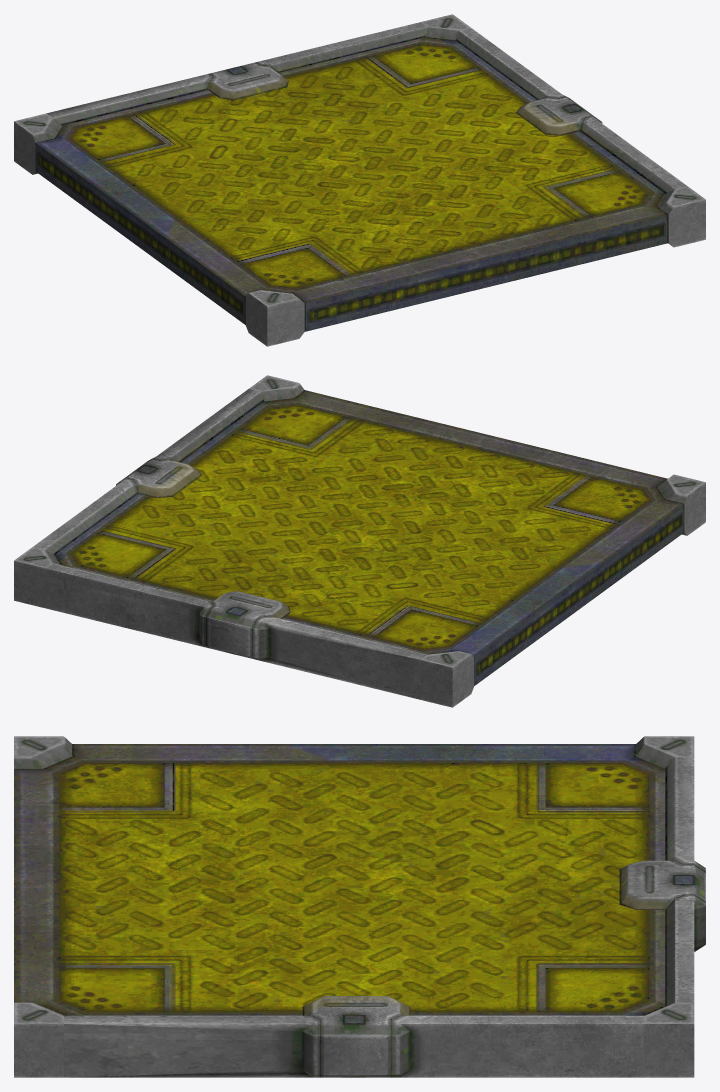
Rendered from catwalk_turn_nohandrail.dae.
3 views of the same model, one above another, from view 1: azimuth 30°, elevation 25°; view 2: azimuth 150°, elevation 25°; view 3: azimuth 270°, elevation 25° (orthographic). The views are drawn at different scales.
Parts seen in each view (by area): view 1: polySurface80; view 2: polySurface80; view 3: polySurface80.
Boxes of the visible parts, bbox=[...] form: polySurface80: bbox=[14, 14, 705, 346]; polySurface80: bbox=[14, 375, 705, 707]; polySurface80: bbox=[14, 736, 705, 1077].
Size of the model in its own units: 2.03 by 0.1745 by 2.03.
Materials: 1 (1 with a texture image).
